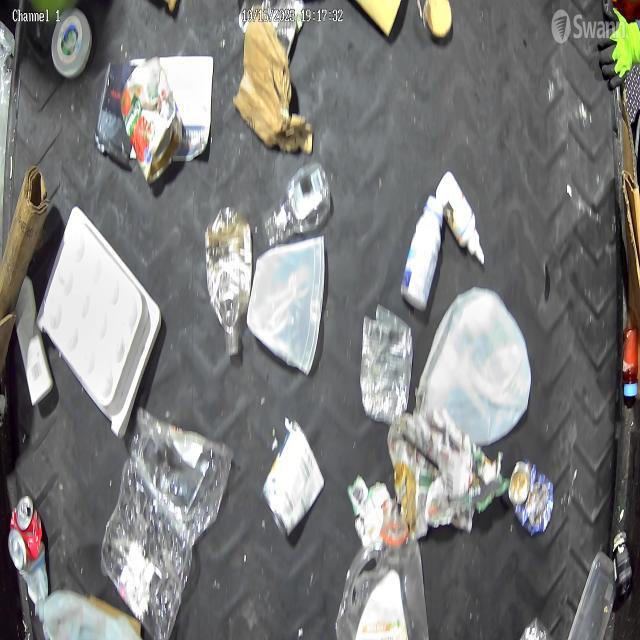can: (119, 55, 183, 188), (262, 419, 327, 542), (358, 298, 412, 427), (509, 458, 556, 538), (6, 494, 44, 571)
milk_jug: (418, 284, 533, 446)
non_white_jug: (334, 510, 430, 640)
plastic_bottle: (204, 200, 253, 364), (262, 160, 332, 249)
